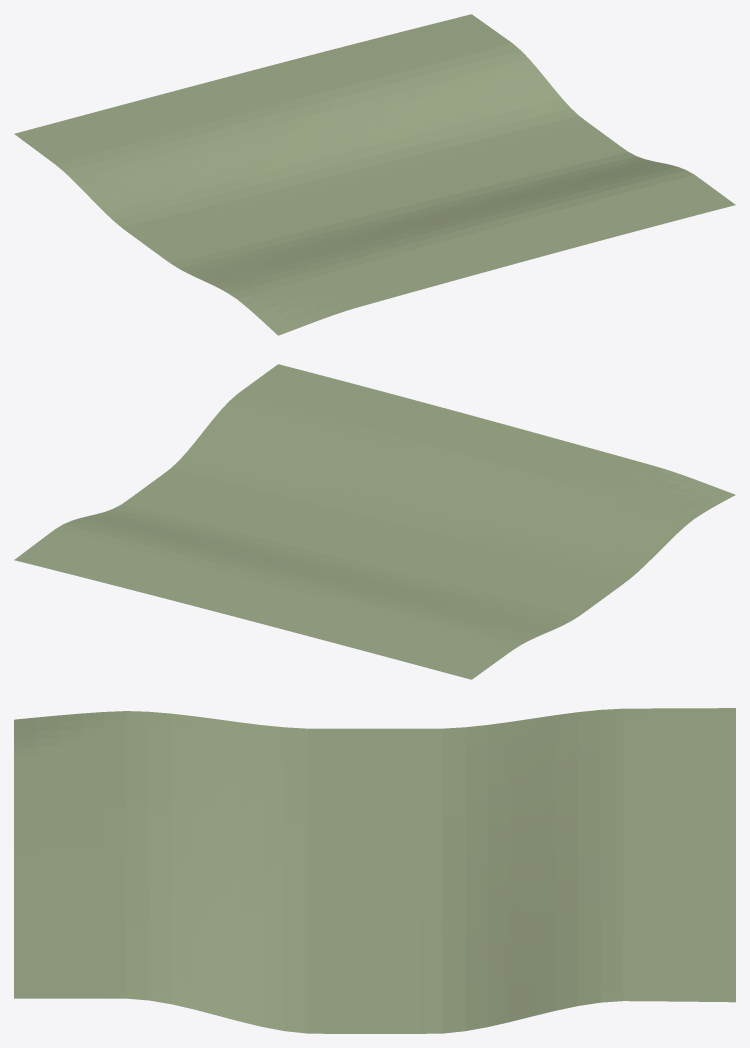
The model's file is gardens-3-5.glb.
3 renders of one model, top to bottom at view 1: azimuth 30°, elevation 25°; view 2: azimuth 150°, elevation 25°; view 3: azimuth 270°, elevation 25°, orthographic. The views are drawn at different scales.
Parts seen in each view (by area): view 1: gardens-3-5; view 2: gardens-3-5; view 3: gardens-3-5.
Part boxes in pixels (x1,y1,x2,y2): gardens-3-5: (14,14,735,335); gardens-3-5: (14,364,735,679); gardens-3-5: (14,708,735,1033).
Size of the model in its own units: 256 by 13.82 by 256.
